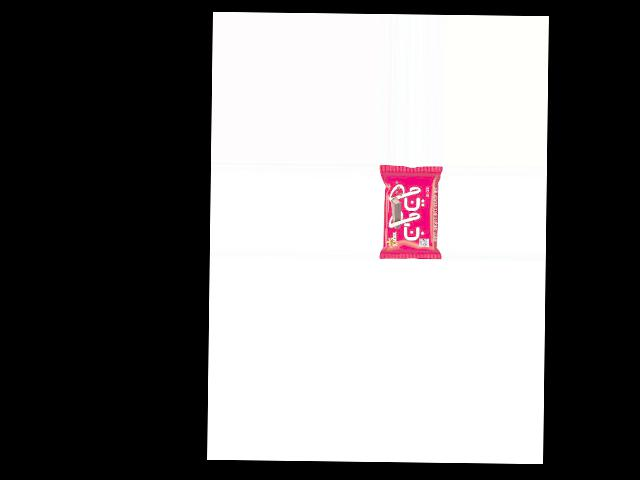chocolate: (379, 165, 443, 259)
